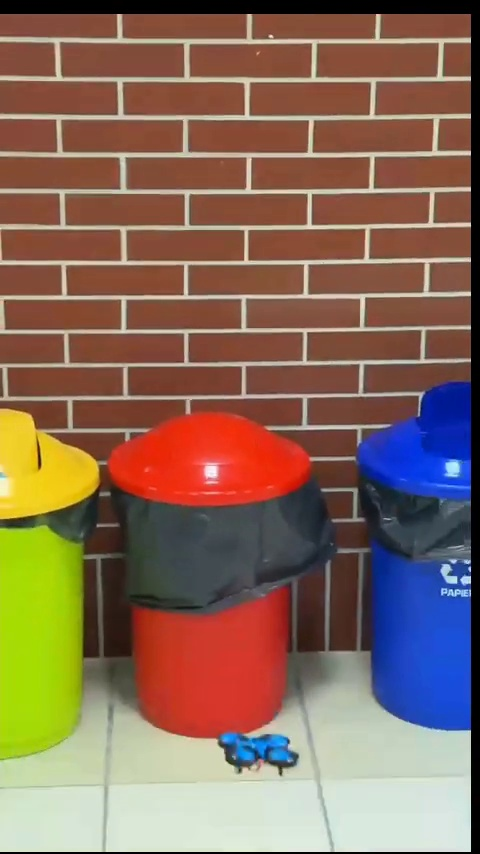drone: (218, 734, 293, 776)
